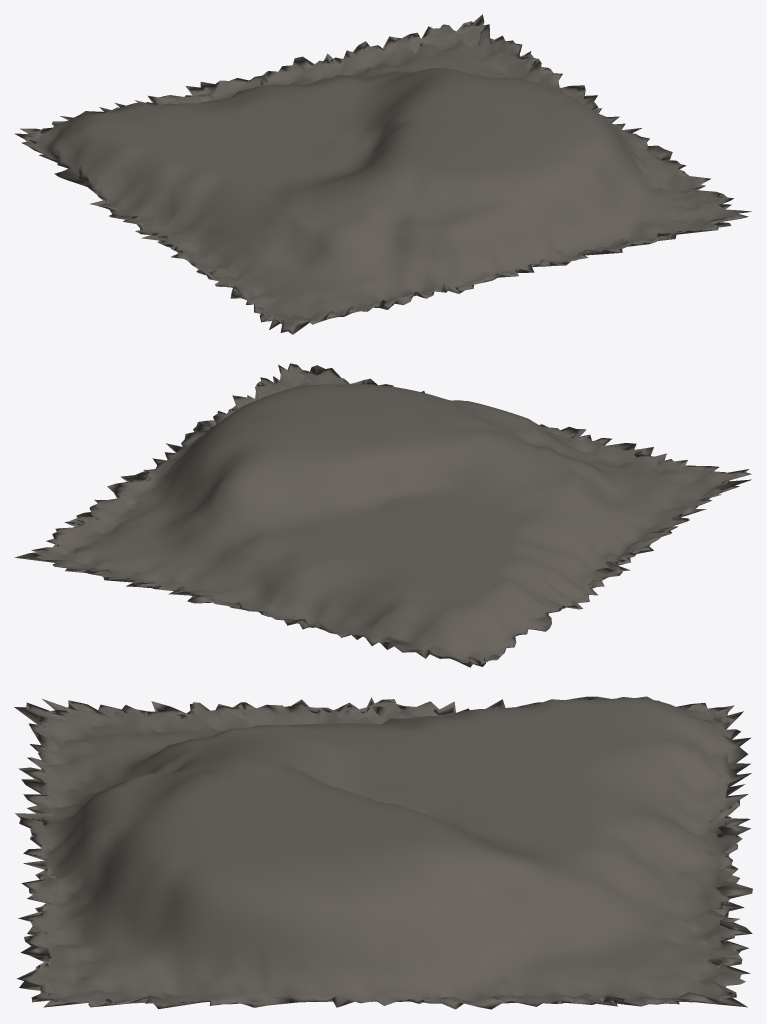
File: zatvorTeren.fbx
3 views of the same model, one above another, from view 1: azimuth 30°, elevation 25°; view 2: azimuth 150°, elevation 25°; view 3: azimuth 270°, elevation 25° (orthographic). The views are drawn at different scales.
Visible parts, largest first — view 1: Cube.002; view 2: Cube.002; view 3: Cube.002.
Part boxes in pixels (left/top/right/bottom): Cube.002: left=14, top=14, right=751, bottom=334; Cube.002: left=14, top=363, right=751, bottom=667; Cube.002: left=14, top=696, right=752, bottom=1009.
Size of the model in its own units: 15836 by 2152 by 15800.
